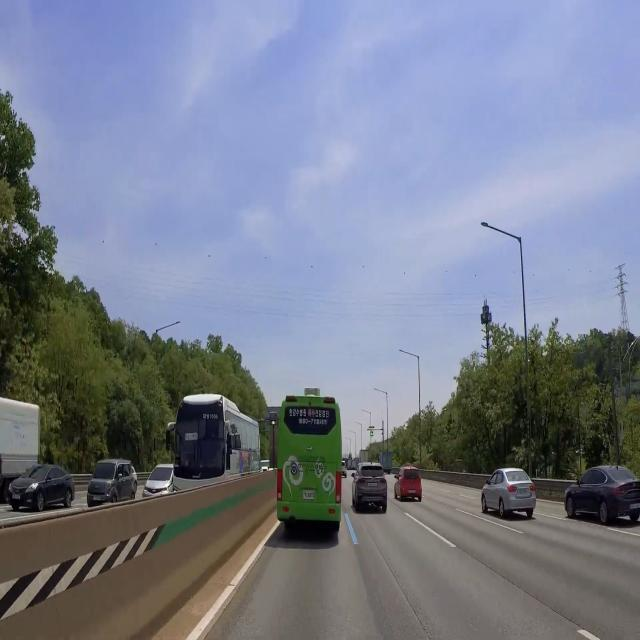car: (301, 488, 317, 504), (366, 480, 380, 490), (517, 489, 530, 497), (407, 489, 419, 496), (630, 503, 640, 510)
